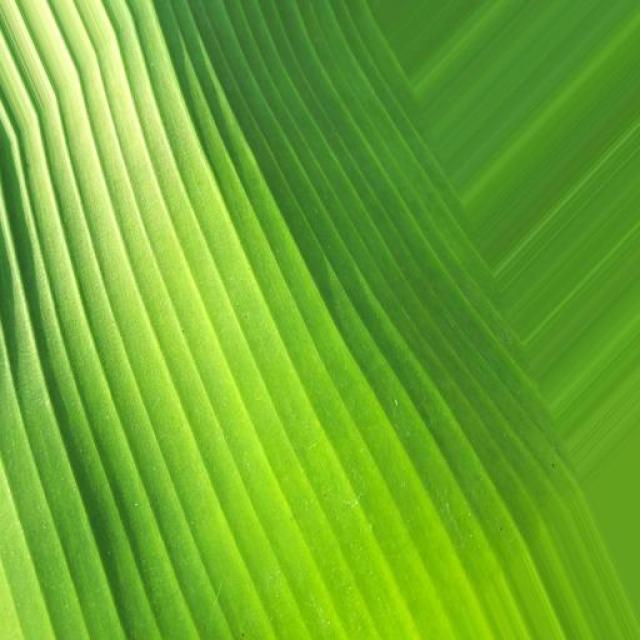Black_leaf_spot: (5, 1, 640, 640)
